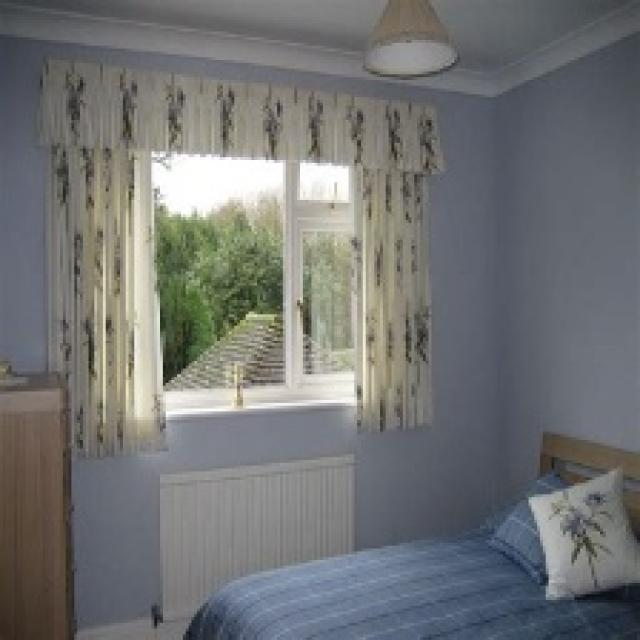Bed: (177, 429, 637, 637)
